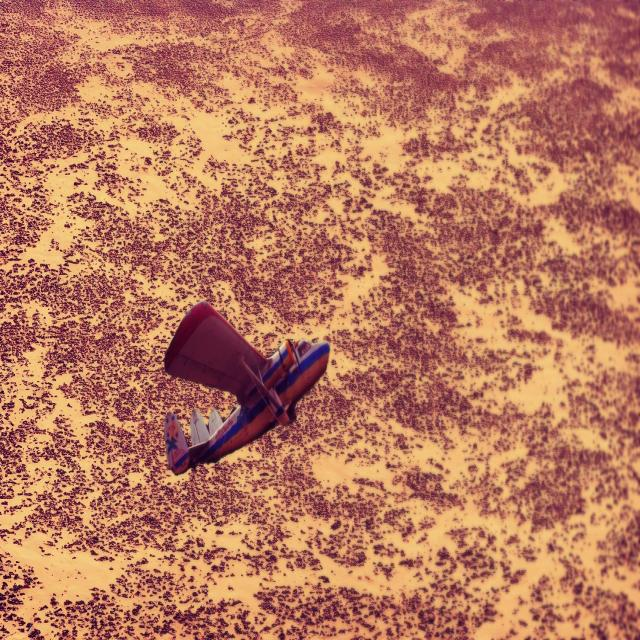airplane: (163, 300, 330, 476)
